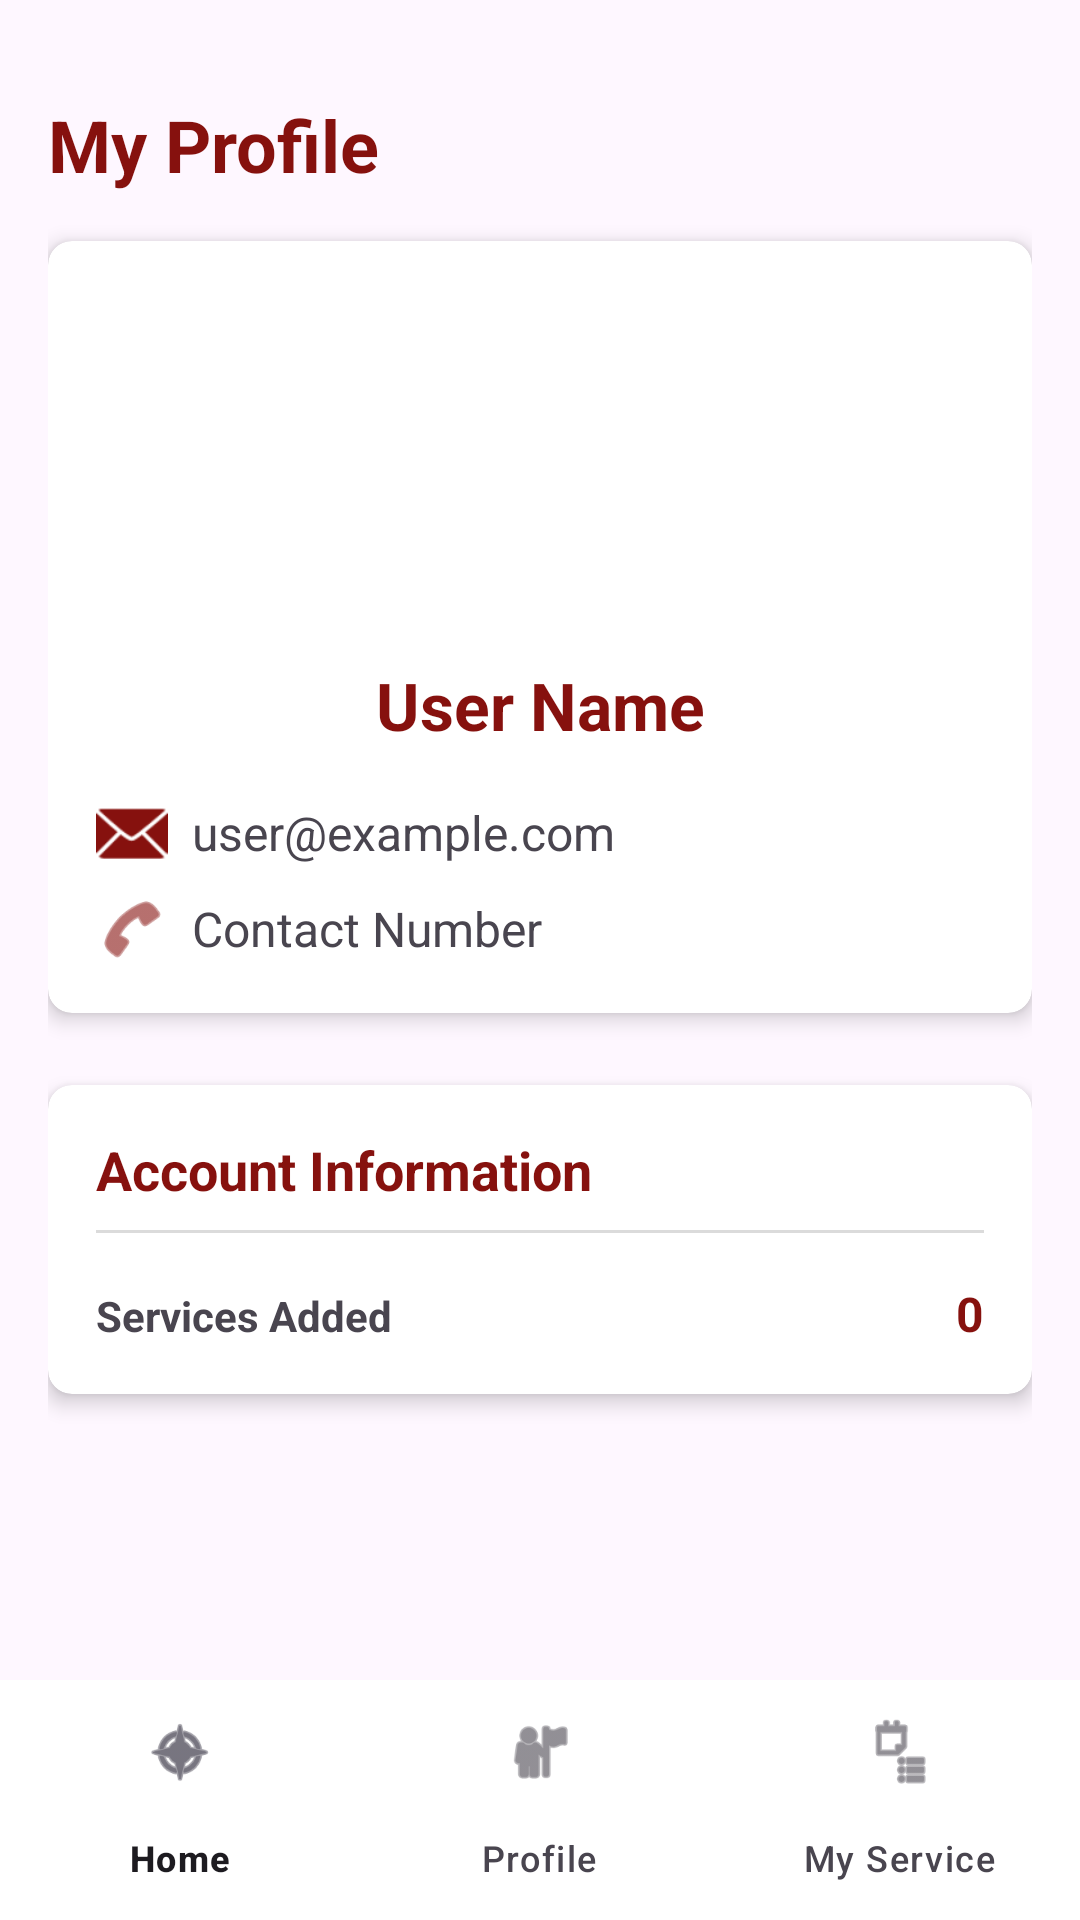

Named icons in this screenshot (1080px x 1920px) and their bounding boxes, Rect(x1, y1, x2, y2):
call: Rect(104, 901, 161, 958)
email: Rect(96, 808, 168, 859)
